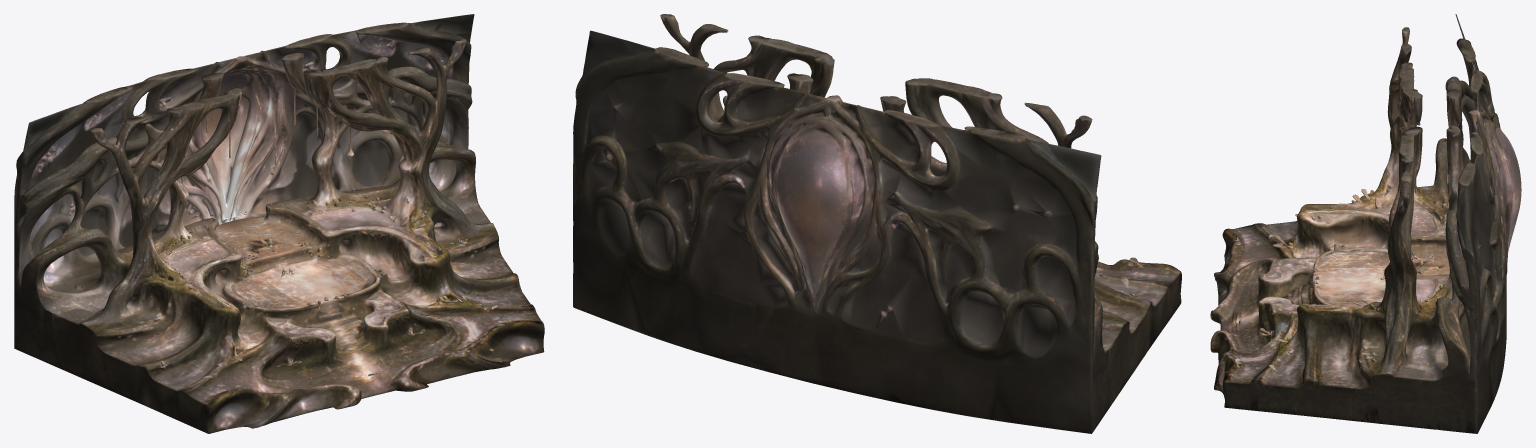
File: altar.glb
3 renders of one model, left to right at view 1: azimuth 30°, elevation 25°; view 2: azimuth 150°, elevation 25°; view 3: azimuth 270°, elevation 25°, orthographic. The views are drawn at different scales.
Parts seen in each view (by area): view 1: tripo_node_86229456-cfd3-4aab-8d34-503446e4612c; view 2: tripo_node_86229456-cfd3-4aab-8d34-503446e4612c; view 3: tripo_node_86229456-cfd3-4aab-8d34-503446e4612c.
Part boxes in pixels (bbox=[...]): tripo_node_86229456-cfd3-4aab-8d34-503446e4612c: bbox=[14, 14, 544, 433]; tripo_node_86229456-cfd3-4aab-8d34-503446e4612c: bbox=[573, 14, 1181, 433]; tripo_node_86229456-cfd3-4aab-8d34-503446e4612c: bbox=[1210, 14, 1521, 433].
Size of the model in its own units: 0.9806 by 0.4924 by 0.6293.
1 material, 1 textured.
